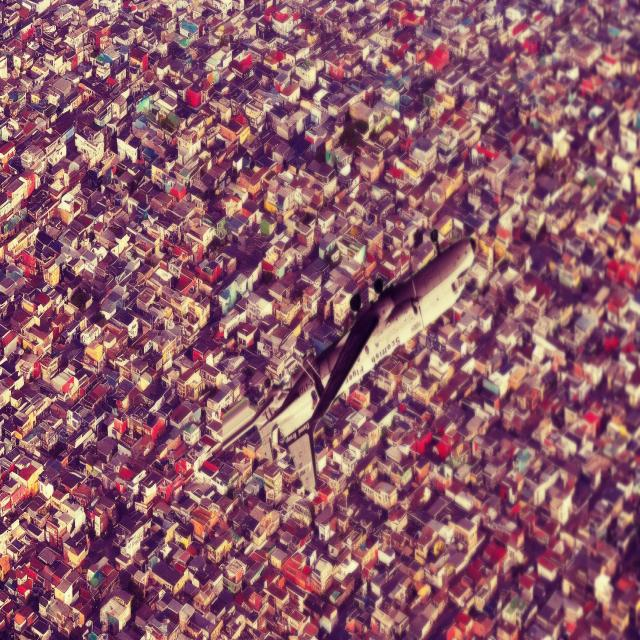airplane: (222, 226, 477, 492)
